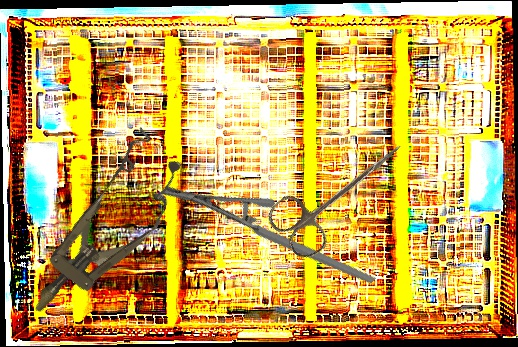Iris Scissors: (262, 118, 420, 265)
Needle Holder: (160, 131, 377, 341)
Speculum: (7, 126, 200, 336)
